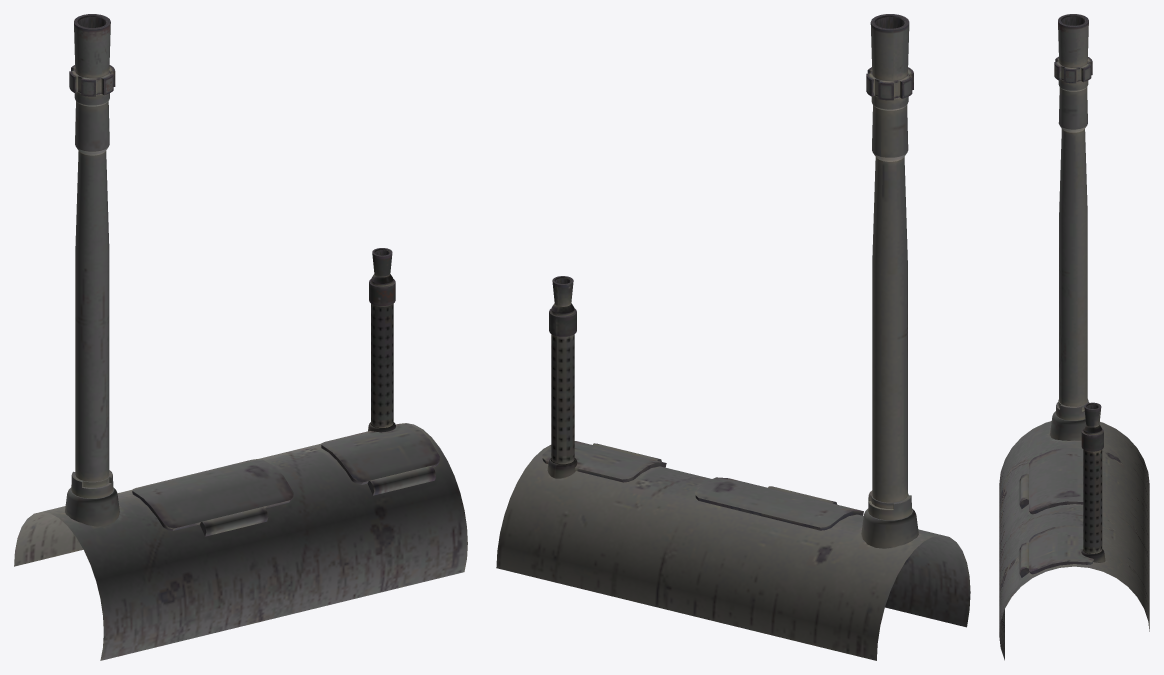
The model's file is Gun_01.glb.
The picture shows the model from 3 angles, left to right: view 1: azimuth 30°, elevation 25°; view 2: azimuth 150°, elevation 25°; view 3: azimuth 270°, elevation 25°; orthographic projection. The views are drawn at different scales.
Visible parts, largest first — view 1: set_0_group_0; view 2: set_0_group_0; view 3: set_0_group_0.
Boxes of the visible parts, left/top/right/bottom form: set_0_group_0: left=14, top=14, right=467, bottom=660; set_0_group_0: left=496, top=14, right=970, bottom=660; set_0_group_0: left=999, top=14, right=1149, bottom=660.
Bounding box in the file's own units: 0.6689 × 1.06 × 0.2855.
Materials: 1 (1 with a texture image).
